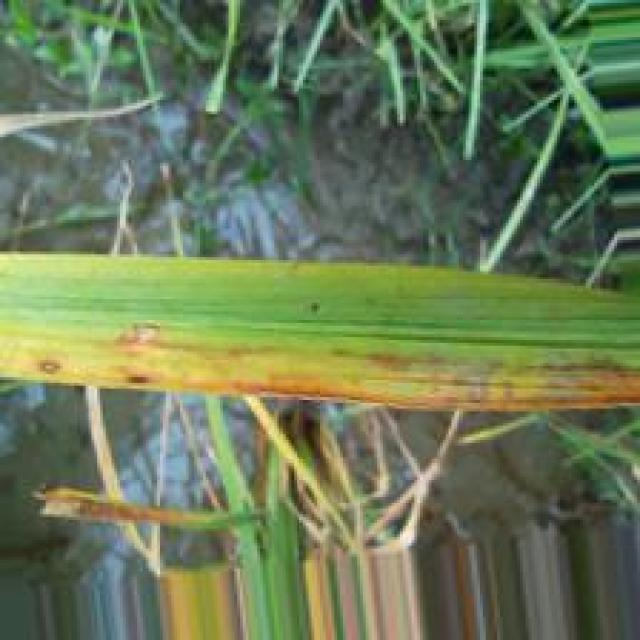Bacterial_Leaf_Blight: (31, 320, 640, 408)
